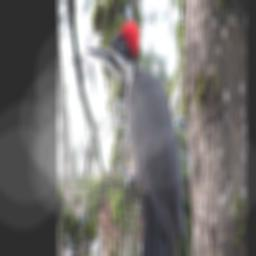Woodpecker: (86, 18, 189, 256)
